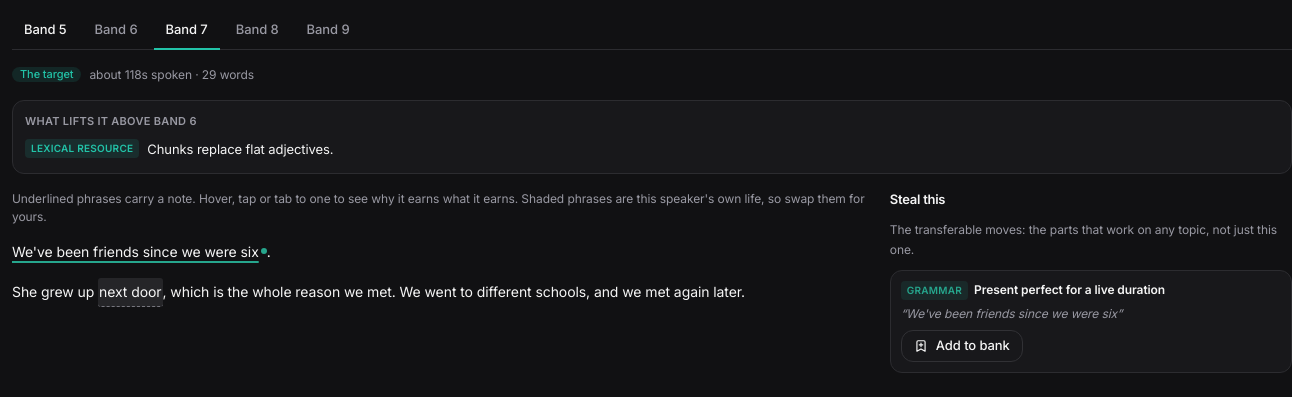
Test: model answers › renders a five-rung ladder and the rung note without assuming 6 is the floor
Expected: the tab "Band 9" is shown, top-left (295, 12), bottom-right (362, 50)
Click the tab "Band 5".
click(45, 31)  # box top-left (12, 12), bottom-right (79, 50)
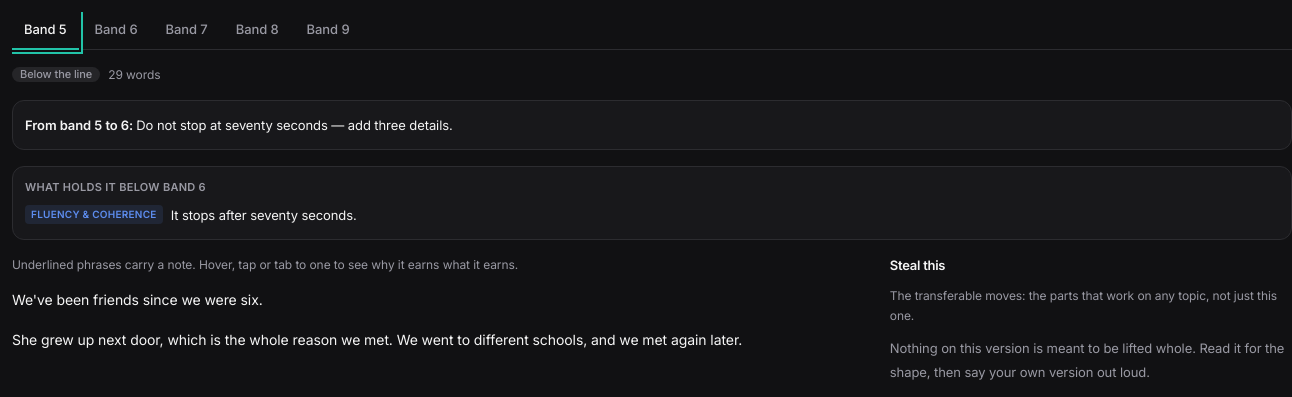
Expected: the text "What holds it below band 6" is shown, top-left (25, 180), bottom-right (206, 194)
Expected: the text "Do not stop at seventy seconds — add three details." is shown, top-left (136, 116), bottom-right (453, 132)
Click the tab "Band 9".
click(328, 31)  # box top-left (295, 12), bottom-right (362, 50)
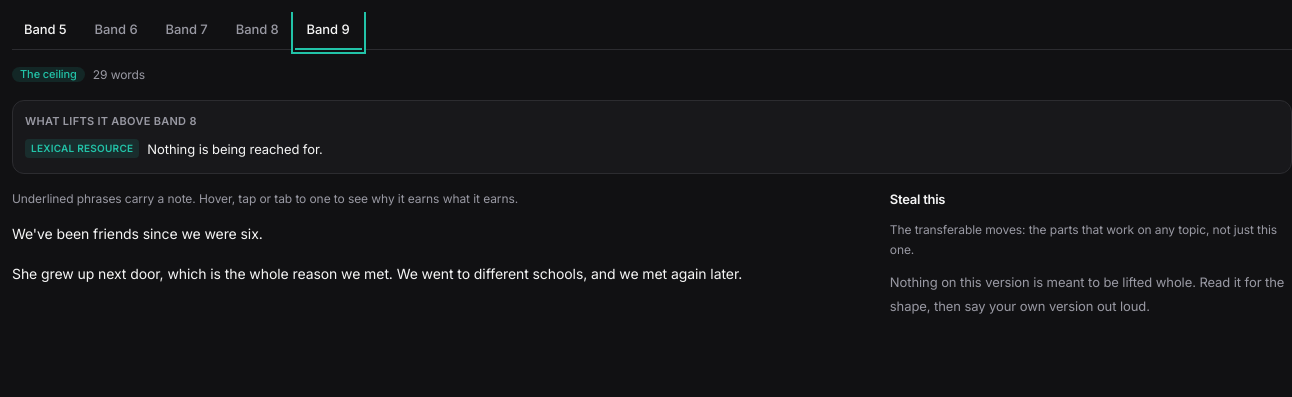
Expected: the text "What lifts it above band 8" is shown, top-left (25, 114), bottom-right (197, 128)
